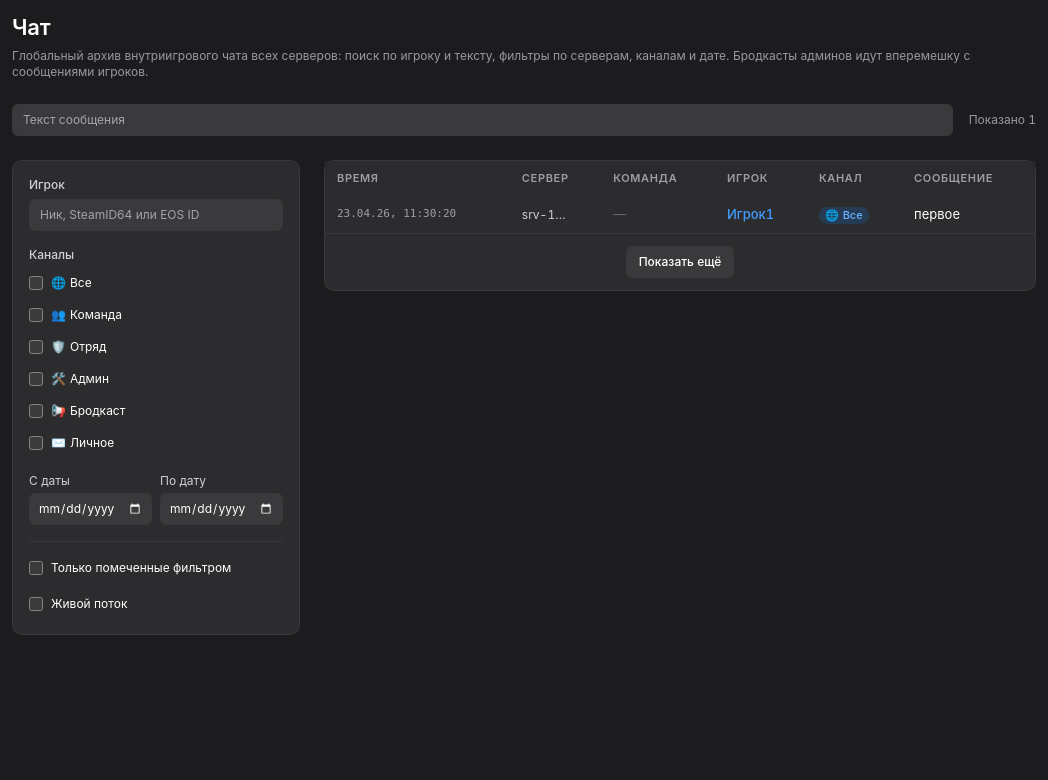
Test: ChatPage › appends the next page after the cursor when "Показать ещё" is pressed
Click the button "Показать ещё": point(680, 262) [626, 246, 734, 278]
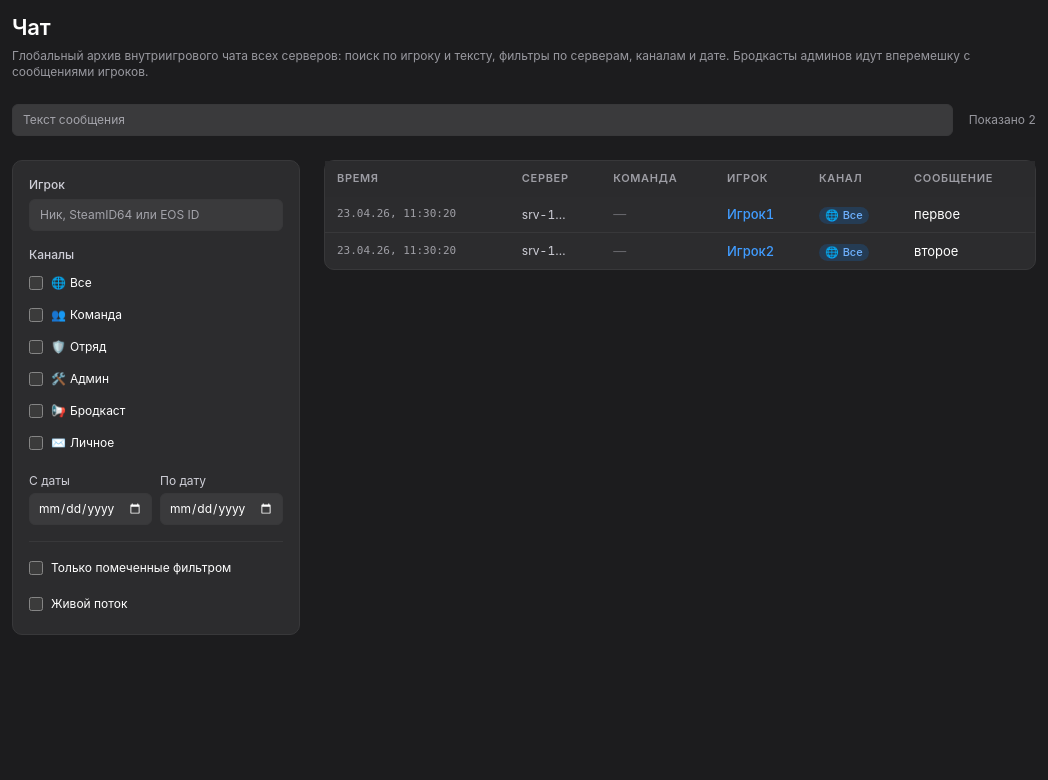
Expected: the text "первое" is shown, [902, 197, 1035, 233]
Expected: the text "второе" is shown, [902, 233, 1035, 269]
Expected: the button "Показать ещё" is gone
